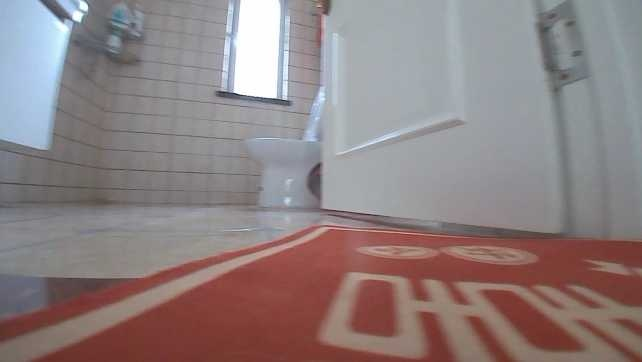blanket: (0, 222, 641, 361)
door_anno: (315, 0, 640, 239)
toilet: (243, 81, 327, 208)
